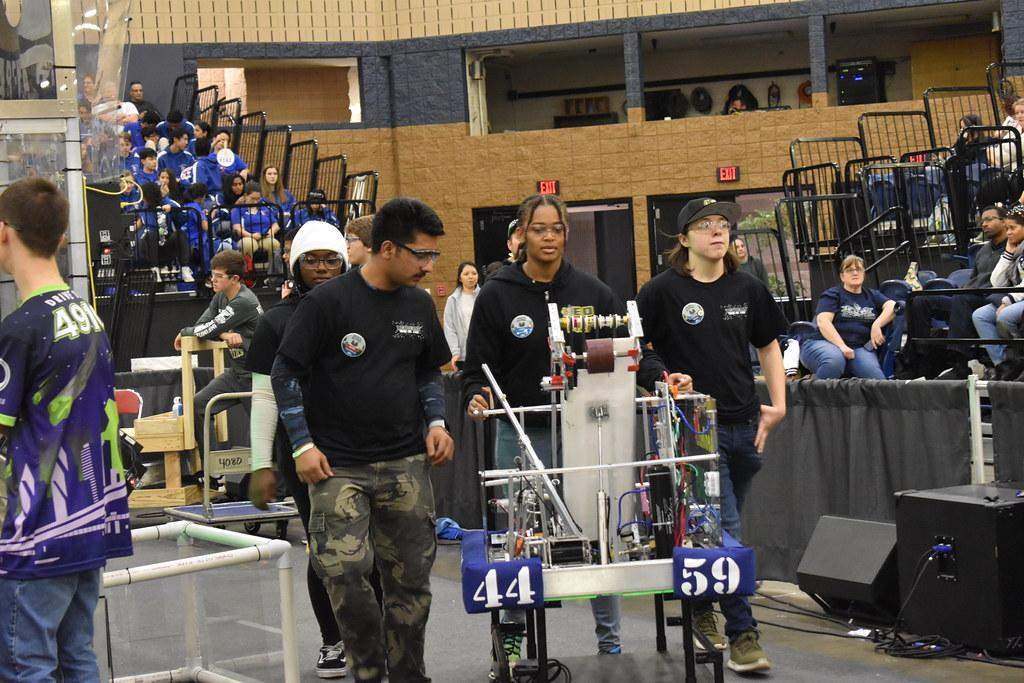robot: (447, 283, 767, 623)
